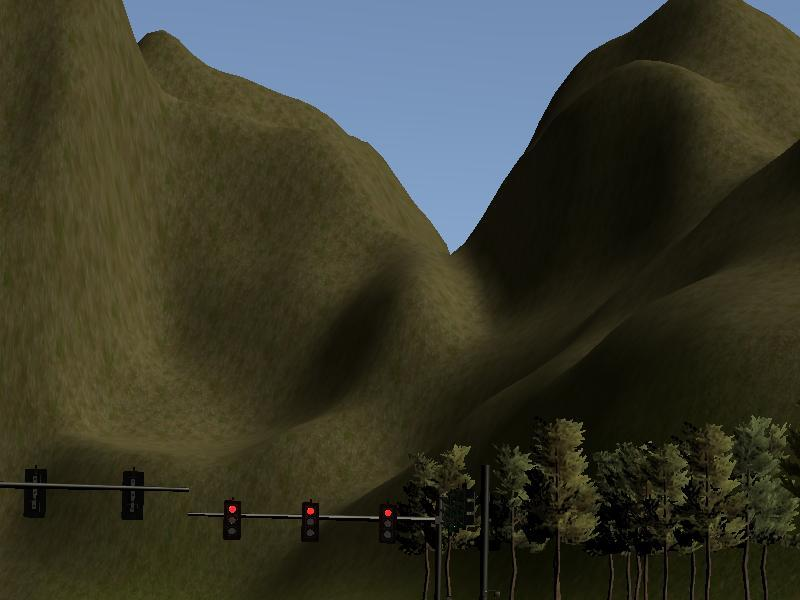Red: (222, 499, 242, 540), (378, 504, 398, 545), (300, 501, 320, 542)
